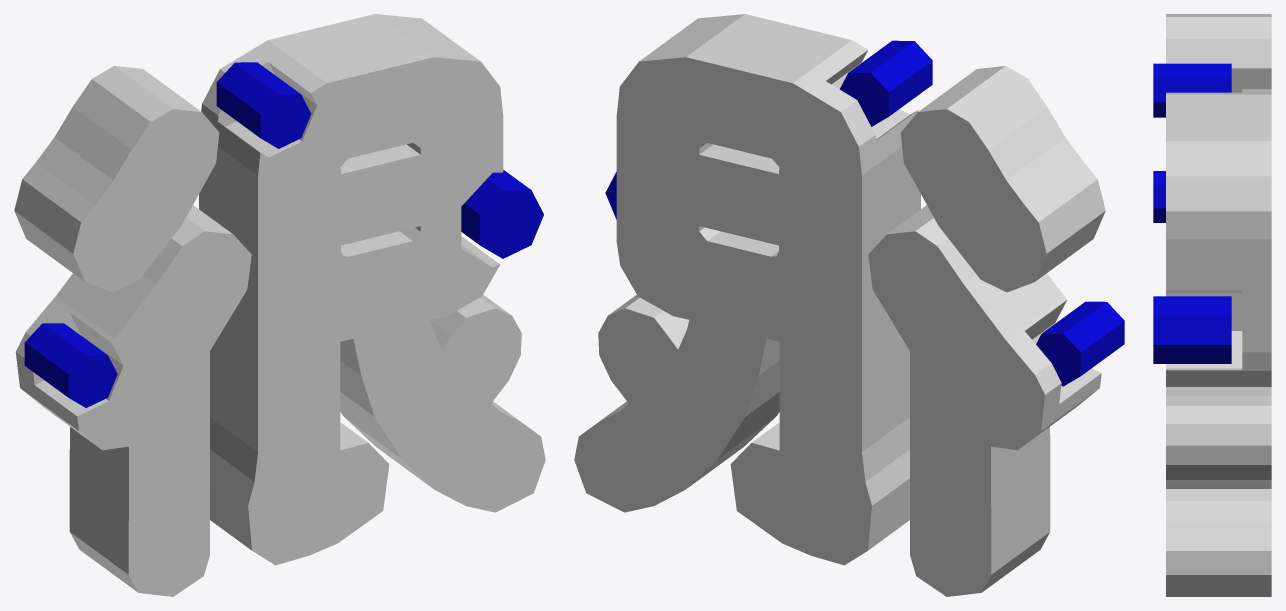
File: Ch_Lite_China_很_01.fbx
3 views of the same model, side by side, from view 1: azimuth 30°, elevation 25°; view 2: azimuth 150°, elevation 25°; view 3: azimuth 270°, elevation 25° (orthographic). The views are drawn at different scales.
Parts seen in each view (by area): view 1: sphere1; view 2: sphere1; view 3: sphere1.
Part boxes in pixels (bbox=[...]): sphere1: bbox=[14, 14, 545, 596]; sphere1: bbox=[574, 14, 1124, 596]; sphere1: bbox=[1153, 14, 1271, 596].
Bounding box in the file's own units: 0.9469 × 0.9116 × 0.2242.
